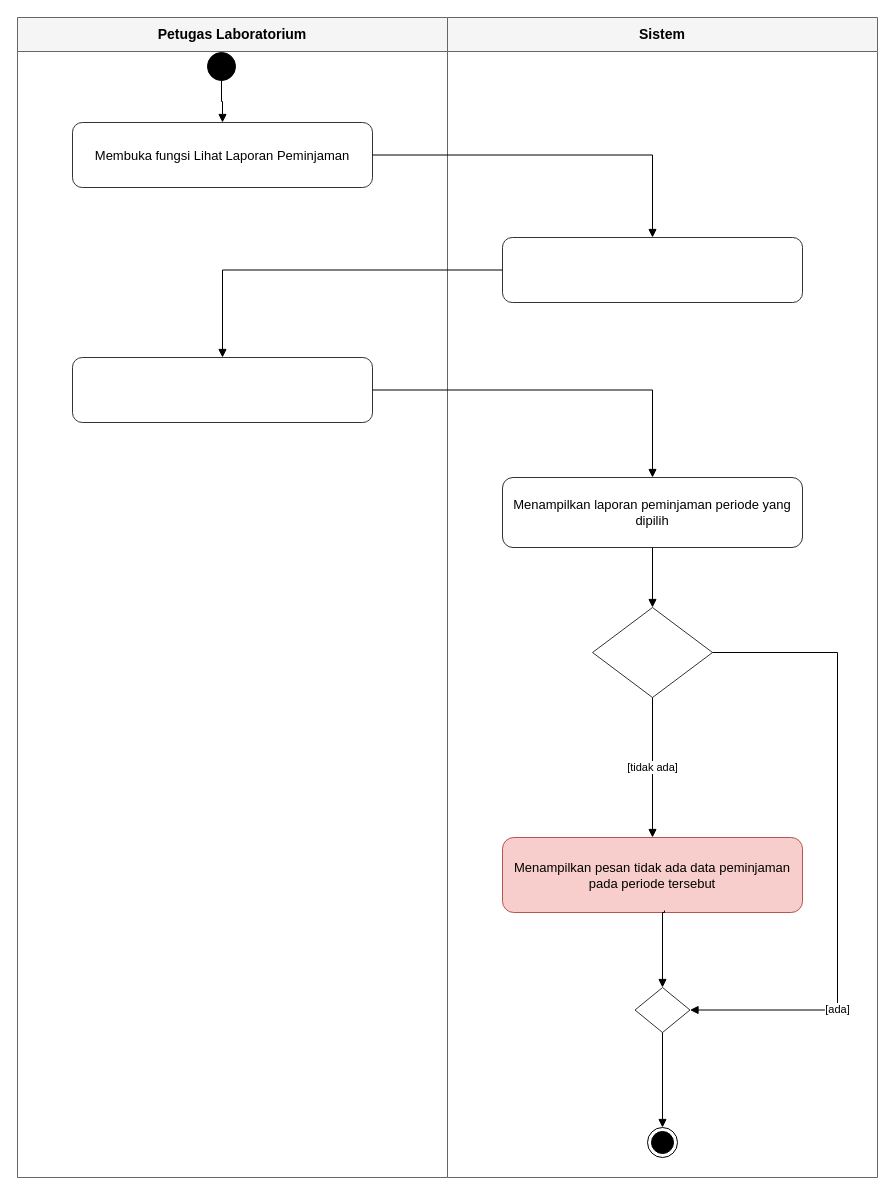
Some shapes in this 895 by 1195 pixel diagram are drawn without their labels. The shapes that lost their labels are listed below. From the top down, each one's centre as x and y in pixels, then its label:
At (652,269): "Menampilkan daftar periode laporan".
At (222,389): "Memilih periode laporan".
At (652,652): "Ada data\npeminjaman?".
